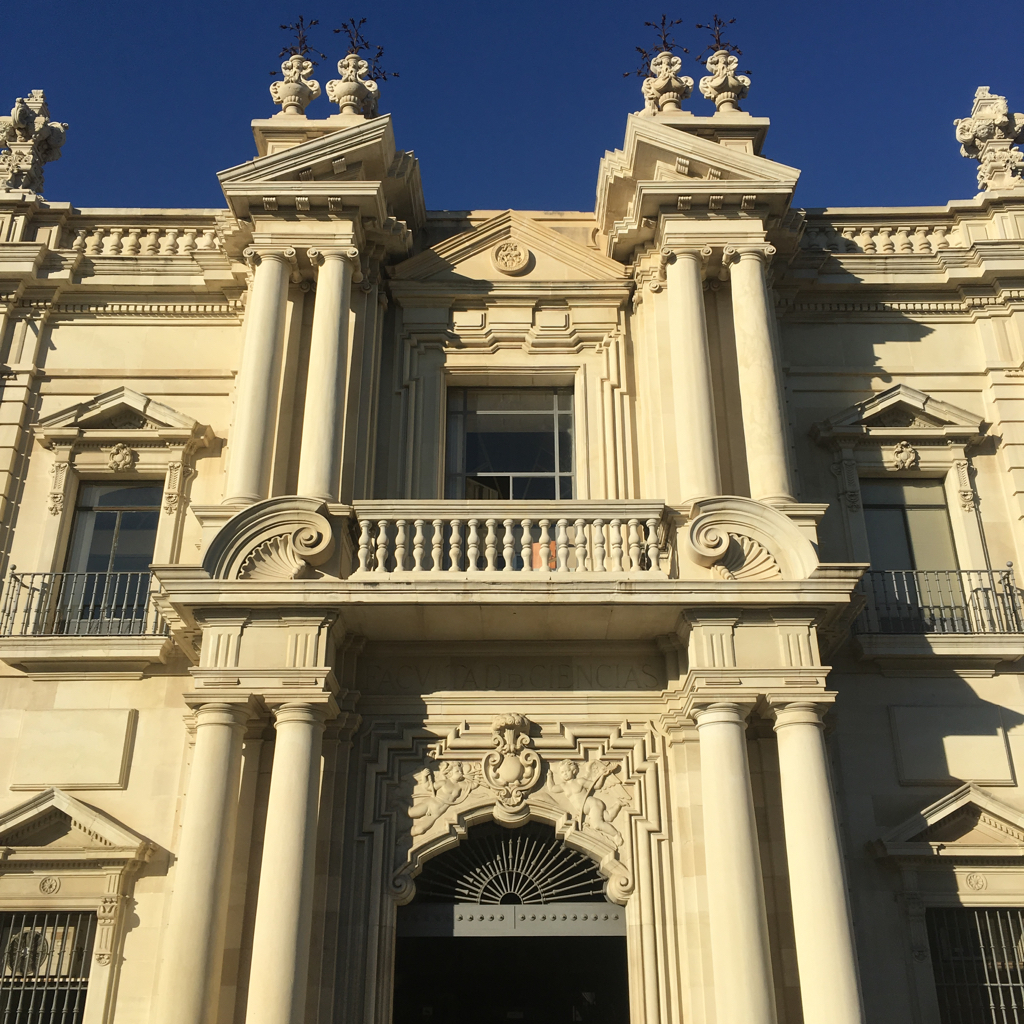fronton: (387, 210, 635, 294), (866, 777, 1019, 860), (812, 379, 988, 446), (1, 790, 150, 867), (32, 386, 204, 445)
fronton-partido: (198, 490, 829, 612), (214, 104, 807, 208)
vano-adintelado: (429, 353, 595, 582), (832, 455, 1001, 629), (36, 458, 195, 639)
